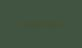eight: (35, 19, 40, 27), (53, 20, 58, 28)
nine: (47, 20, 52, 28)
one: (17, 19, 22, 27)
seven: (23, 19, 28, 27), (59, 20, 64, 28)
two: (29, 19, 34, 27), (41, 20, 46, 28)
